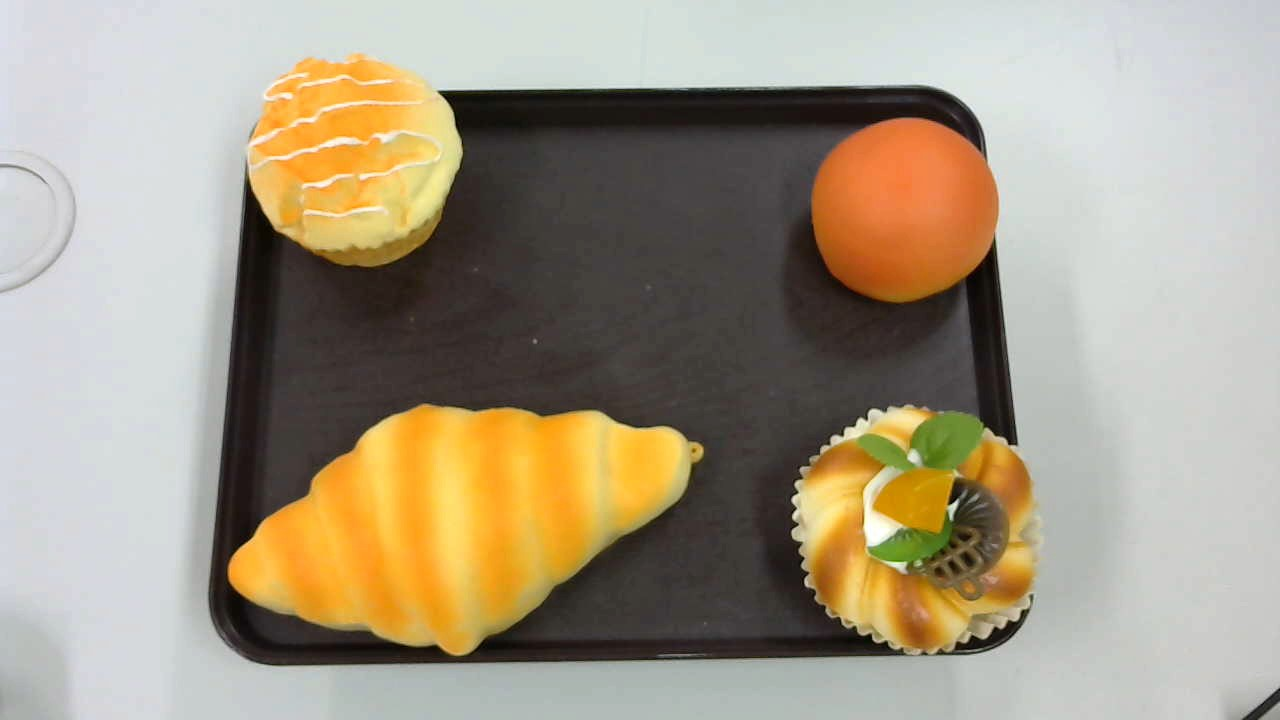bun: (810, 117, 999, 304)
croissant: (225, 400, 706, 657)
cupcake: (245, 54, 463, 269)
fruit tart: (790, 406, 1045, 653)
